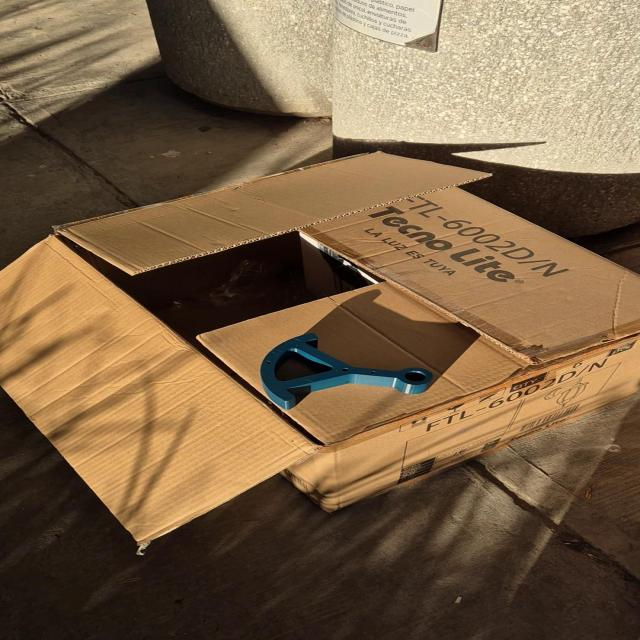haptic: (258, 332, 434, 411)
